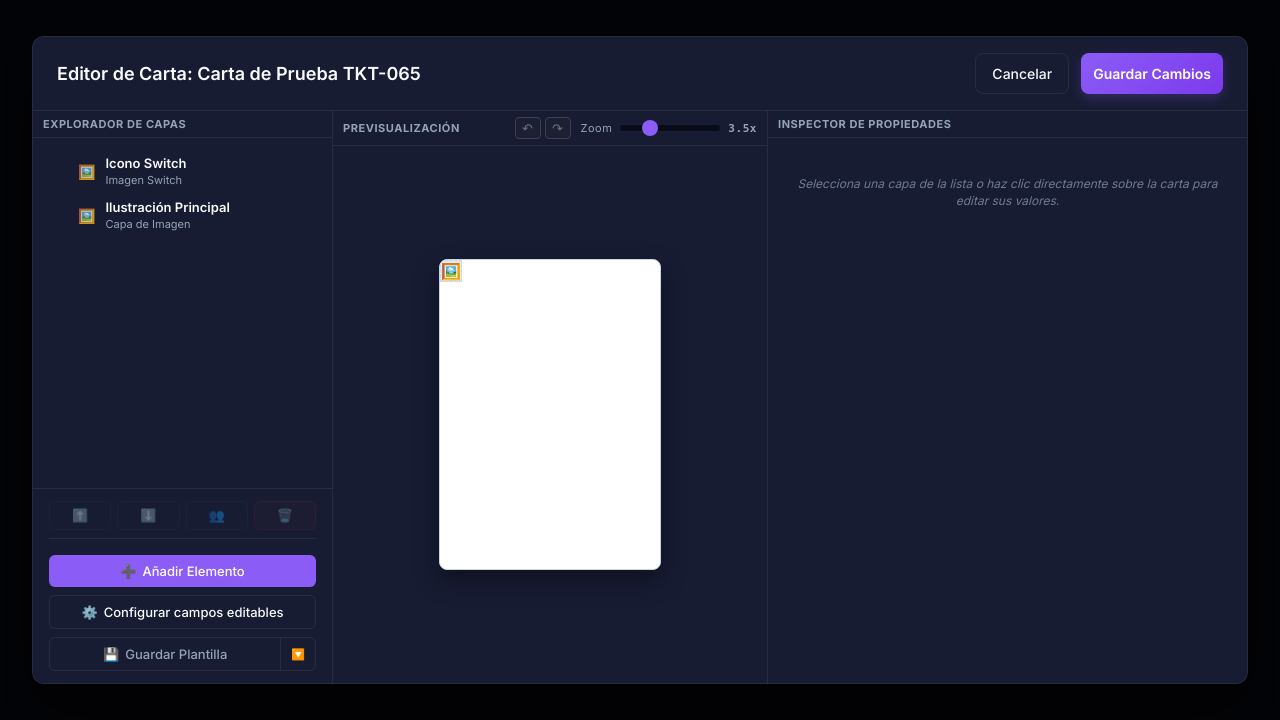
Scenario: TKT-065: Selector de Recursos Switch y Galería Unificada por Secciones › abre el modal de recursos switch con diseño ancho y todas las pestañas unificadas
Note: Seleccionar la capa switch en el árbol de capas
Click the text "Icono Switch".
click(146, 163)  # box [106, 155, 186, 171]
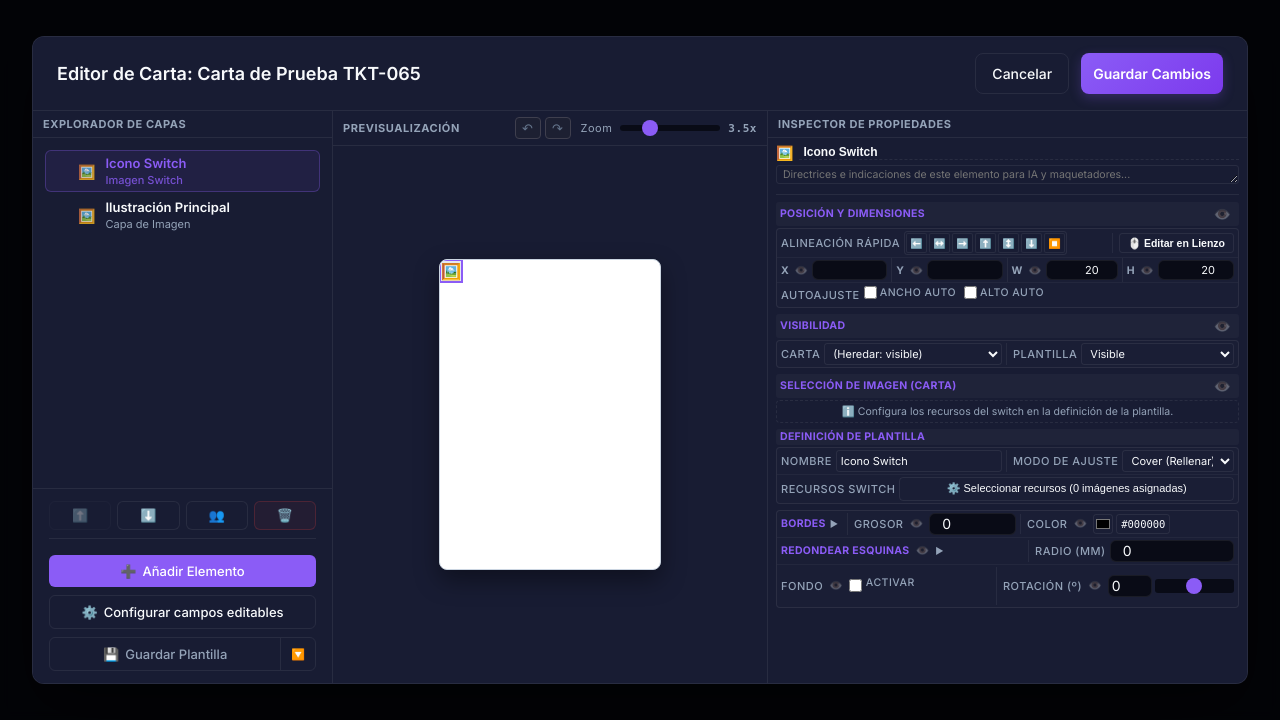
expect the button "⚙️ Seleccionar recursos (0 imágenes asignadas)" is shown: met
Click the button "⚙️ Seleccionar recursos (0 imágenes asignadas)".
click(1067, 489)  # box [899, 477, 1234, 501]
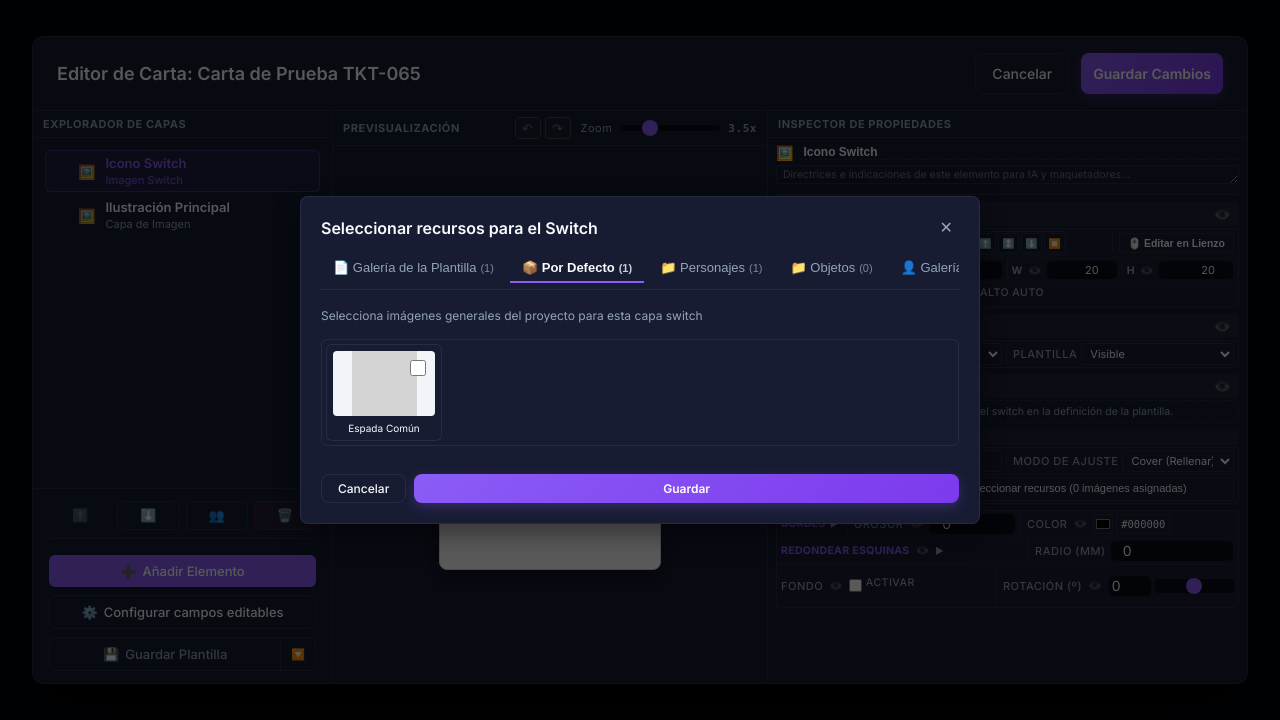
expect the heading "Seleccionar recursos para el Switch" is shown: met, box [321, 218, 598, 238]
expect the element with class "multimedia-gallery-wide" is shown: met, box [300, 196, 980, 524]
expect the button "📄 Galería de la Plantilla (1)" is shown: met, box [321, 254, 506, 283]
